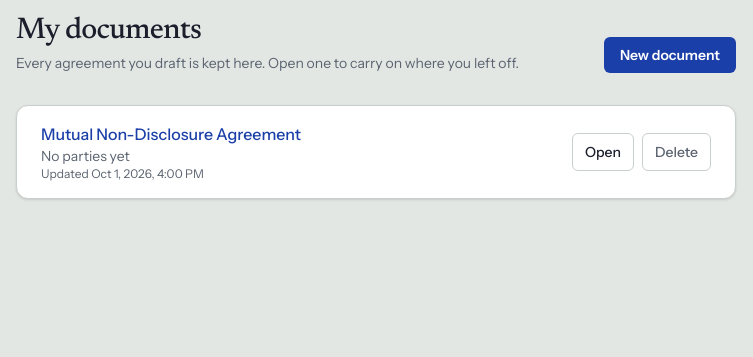
it: DocumentList › shows the empty state after the last document is deleted
What coordinates should you click on to do the following:
click the button with aria-label "Delete Mutual"
I would click on:
 (676, 152)
Its box is [642,133,711,171].
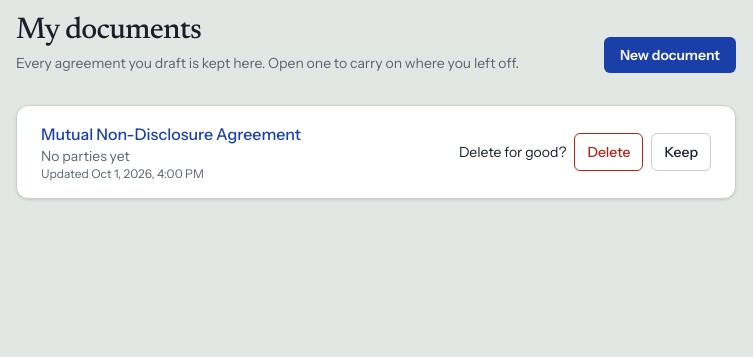
What coordinates should you click on to do the following:
click the button "Delete"
I would click on:
 (609, 152)
Its box is [574,133,643,171].
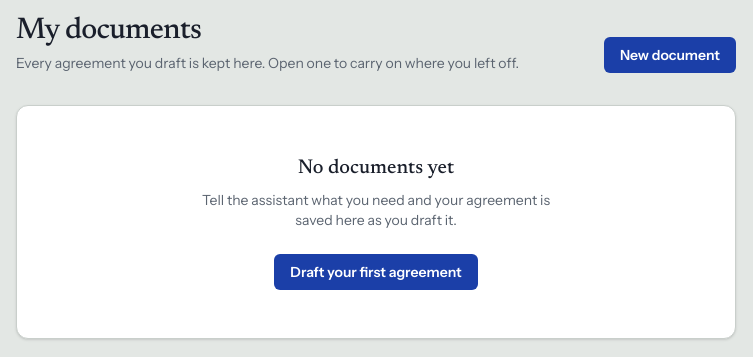
Result: the heading "No documents yet" is shown at [298,158,454,178]
